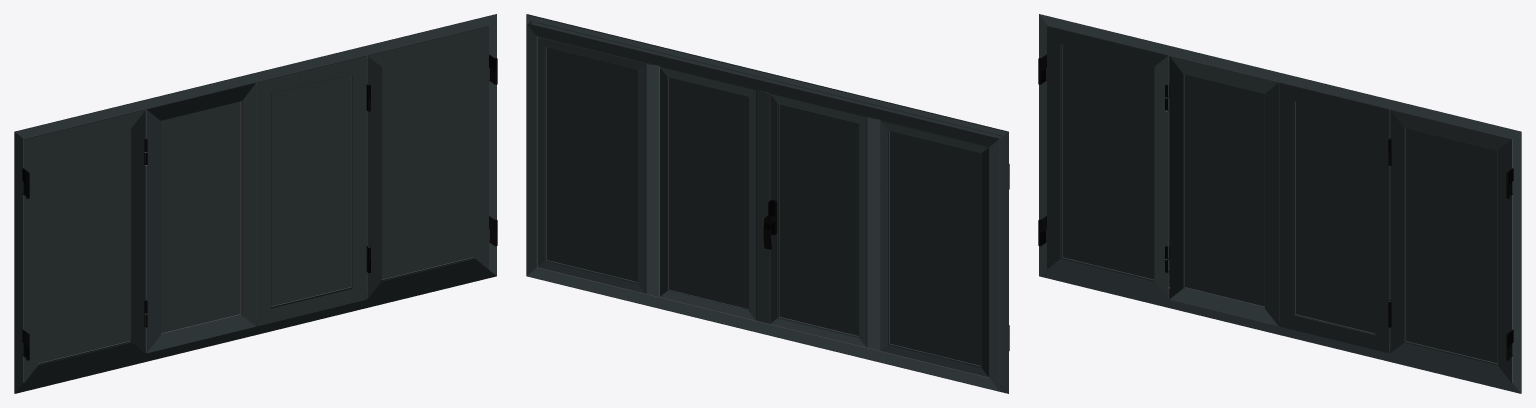
The picture shows the model from 3 angles, left to right: view 1: azimuth 30°, elevation 25°; view 2: azimuth 150°, elevation 25°; view 3: azimuth 330°, elevation 25°; orthographic projection.
Visible parts, largest first — view 1: ouvrant, painel, painel_1, painel_3, painel_2, 4folhas, ouvrant_3, ouvrant_4; view 2: 4folhas, painel_1, painel, ouvrant, painel_2, painel_3, ouvrant_3, ouvrant_4; view 3: ouvrant, painel, painel_1, painel_2, painel_3, 4folhas, ouvrant_3, ouvrant_4.
Part boxes in pixels (x1,y1,x2,y2): ouvrant: (256,25,497,326); painel: (381,44,473,279); painel_1: (38,128,130,363); painel_3: (160,101,240,333); painel_2: (271,74,351,306); 4folhas: (14,14,497,393); ouvrant_3: (22,109,147,383); ouvrant_4: (144,82,256,353); 4folhas: (526,14,1009,393); painel_1: (889,131,981,366); painel: (546,47,637,282); ouvrant: (537,36,770,323); painel_2: (668,77,748,309); painel_3: (779,104,858,336); ouvrant_3: (867,117,1009,377); ouvrant_4: (769,93,872,347); ouvrant: (1279,82,1513,383); painel: (1405,128,1497,363); painel_1: (1062,44,1154,279); painel_2: (1295,101,1375,333); painel_3: (1184,74,1264,306); 4folhas: (1038,14,1521,393); ouvrant_3: (1038,25,1169,299); ouvrant_4: (1165,55,1279,326).
Bounding box in the file's own units: 203 × 105 × 13.71.
1 material, 1 textured.
